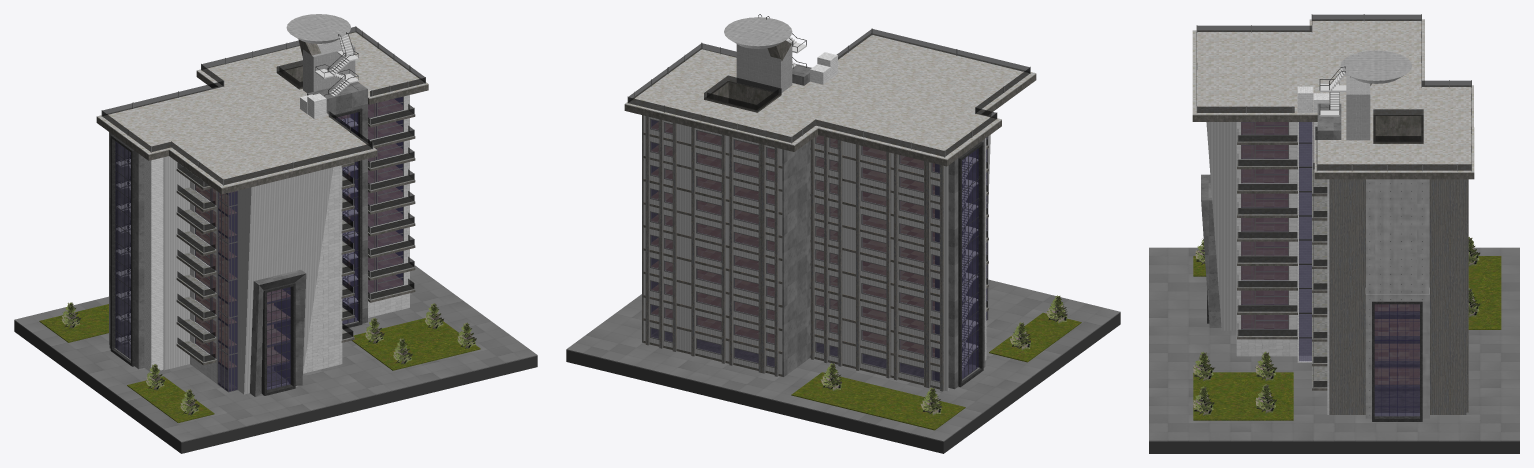
Rendered from house.glb.
3 renders of one model, left to right at view 1: azimuth 30°, elevation 25°; view 2: azimuth 150°, elevation 25°; view 3: azimuth 270°, elevation 25°, orthographic. The views are drawn at different scales.
Visible parts, largest first — view 1: Line135_Solid Glass_0, Box752_17 - Old Copper #1_0, Plane001_12 - Car Paint_0, Rectangle004_14 - Polished Aluminum_0, Box442_03 - Default_0, Line032_15 - Glossy Plastic_0, Box717_05 - Default_0, Box664_Wall Paint_0, Box834_18 - Rubber_0, Line124_01 - Default_0, Line001_Metal_0, Line136_13 - Brushed Metal #2_0 (+8 smaller); view 2: Rectangle004_14 - Polished Aluminum_0, Line135_Solid Glass_0, Box714_06 - Default_0, Box752_17 - Old Copper #1_0, Plane001_12 - Car Paint_0, Line001_Metal_0, Box442_03 - Default_0, Line124_01 - Default_0, Line032_15 - Glossy Plastic_0, Shape005_02 - Default_0, Box834_18 - Rubber_0, Line164__0 (+6 smaller); view 3: Box752_17 - Old Copper #1_0, Line135_Solid Glass_0, Box714_06 - Default_0, Plane001_12 - Car Paint_0, Rectangle003_24 - Default_0, Line124_01 - Default_0, Line001_Metal_0, Box664_Wall Paint_0, Box834_18 - Rubber_0, Line032_15 - Glossy Plastic_0, Rectangle004_14 - Polished Aluminum_0, Line136_13 - Brushed Metal #2_0 (+10 smaller).
Boxes of the visible parts, box(x1,y1,x2,y2) form: Line135_Solid Glass_0: box(96, 31, 428, 188); Box752_17 - Old Copper #1_0: box(14, 262, 537, 442); Plane001_12 - Car Paint_0: box(115, 97, 402, 391); Rectangle004_14 - Polished Aluminum_0: box(109, 132, 333, 394); Box442_03 - Default_0: box(109, 81, 367, 396); Line032_15 - Glossy Plastic_0: box(14, 32, 537, 453); Box717_05 - Default_0: box(190, 95, 409, 383); Box664_Wall Paint_0: box(177, 109, 415, 363); Box834_18 - Rubber_0: box(39, 304, 480, 422); Line124_01 - Default_0: box(196, 99, 402, 367); Line001_Metal_0: box(96, 39, 428, 391); Line136_13 - Brushed Metal #2_0: box(177, 104, 413, 361); Rectangle004_14 - Polished Aluminum_0: box(643, 113, 991, 391); Line135_Solid Glass_0: box(624, 33, 1036, 160); Box714_06 - Default_0: box(642, 115, 943, 391); Box752_17 - Old Copper #1_0: box(566, 279, 1120, 441); Plane001_12 - Car Paint_0: box(651, 119, 986, 381); Line001_Metal_0: box(624, 40, 1036, 389); Box442_03 - Default_0: box(782, 63, 985, 389); Line124_01 - Default_0: box(644, 122, 986, 363); Line032_15 - Glossy Plastic_0: box(566, 14, 1120, 453); Shape005_02 - Default_0: box(650, 118, 988, 382); Box834_18 - Rubber_0: box(791, 312, 1081, 430); Line164__0: box(628, 29, 1029, 156); Box752_17 - Old Copper #1_0: box(1149, 247, 1519, 441); Line135_Solid Glass_0: box(1192, 19, 1474, 172); Box714_06 - Default_0: box(1329, 179, 1468, 414); Plane001_12 - Car Paint_0: box(1241, 122, 1419, 416); Rectangle003_24 - Default_0: box(1340, 50, 1429, 418); Line124_01 - Default_0: box(1241, 122, 1419, 384); Line001_Metal_0: box(1192, 76, 1474, 412); Box664_Wall Paint_0: box(1237, 135, 1327, 388); Box834_18 - Rubber_0: box(1193, 256, 1501, 420); Line032_15 - Glossy Plastic_0: box(1149, 66, 1519, 453); Rectangle004_14 - Polished Aluminum_0: box(1206, 122, 1236, 330); Line136_13 - Brushed Metal #2_0: box(1238, 135, 1327, 387).
Size of the model in its own units: 54.84 by 43.39 by 44.54.
21 materials, 14 textured.
